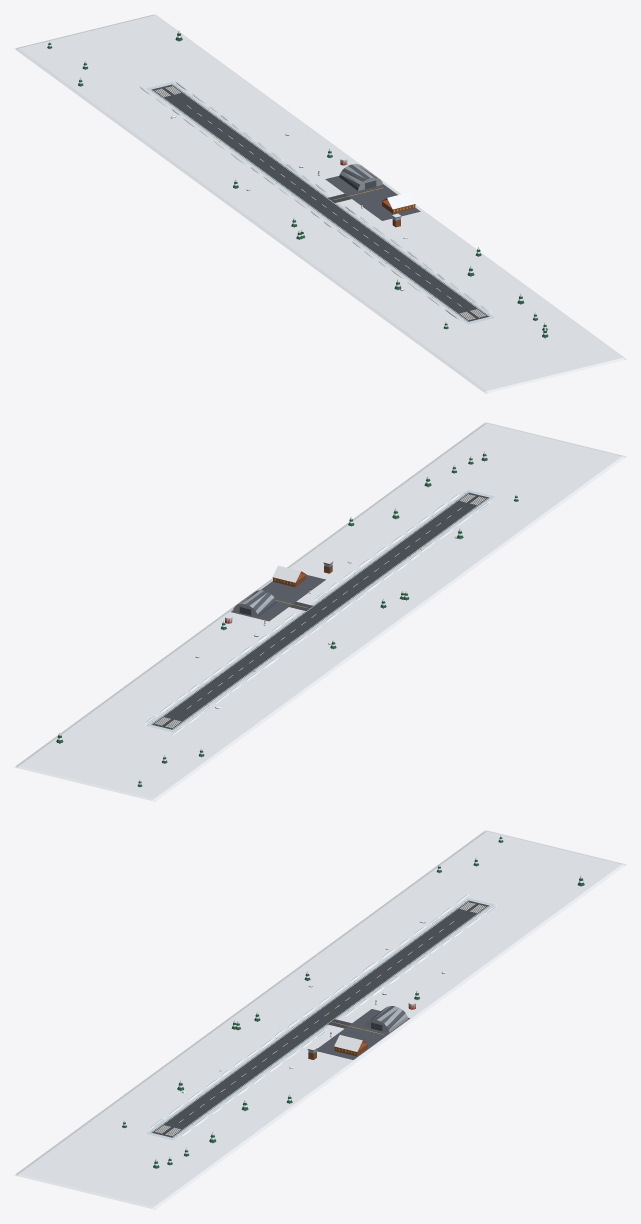
The model's file is AeropuertoNieve.fbx.
The picture shows the model from 3 angles, top to bottom: view 1: azimuth 30°, elevation 25°; view 2: azimuth 150°, elevation 25°; view 3: azimuth 330°, elevation 25°; orthographic projection.
Visible parts, largest first — view 1: AeropuertoNieve; view 2: AeropuertoNieve; view 3: AeropuertoNieve.
Boxes of the visible parts, box(x1,y1,x2,y2) form: AeropuertoNieve: box(14, 14, 626, 393); AeropuertoNieve: box(14, 422, 626, 801); AeropuertoNieve: box(14, 830, 626, 1209).
Bounding box in the file's own units: 314 × 29.44 × 1814.
1 material, 1 textured.
